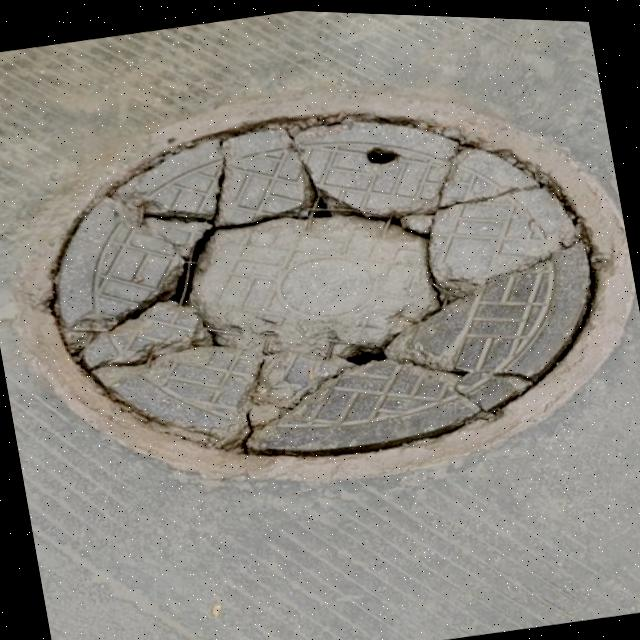manhole: (0, 49, 640, 536)
